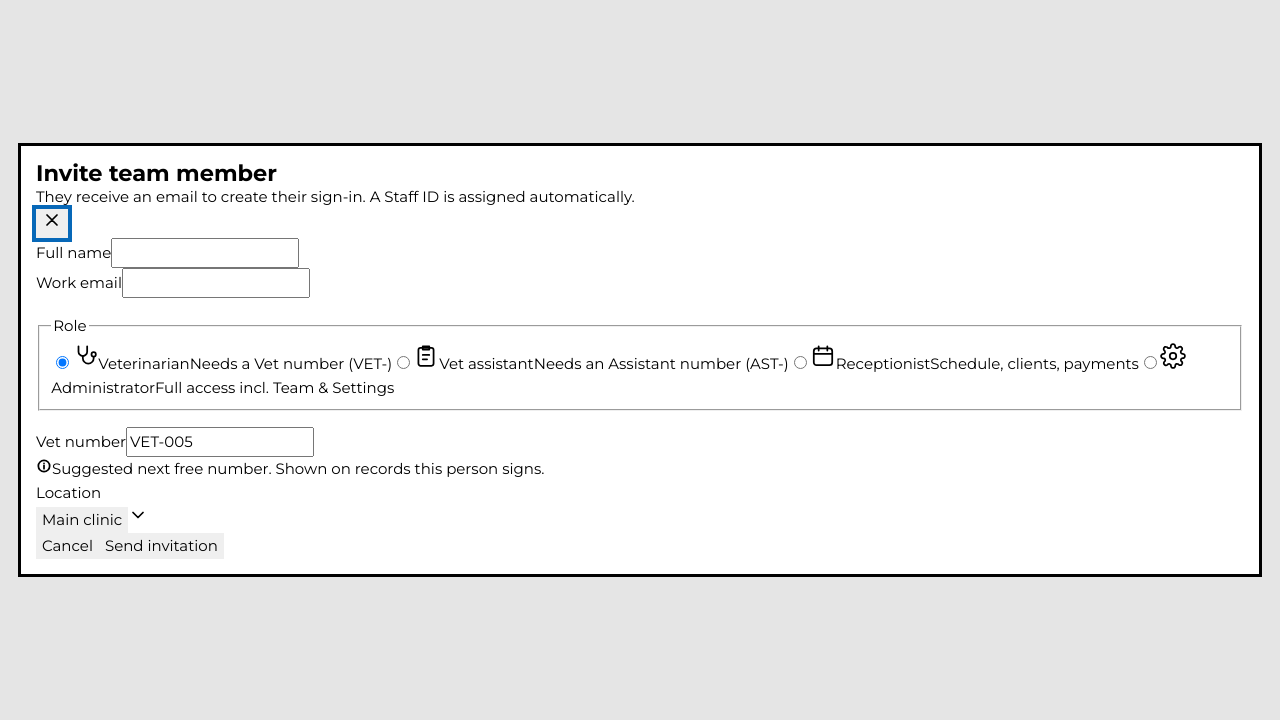
Test case: InviteModal › says when the email already has an account
The width and height of the screenshot is (1280, 720).
Type "José Ruiz" into the field labelled "Full name" at [205, 253], box [111,238,299,268]
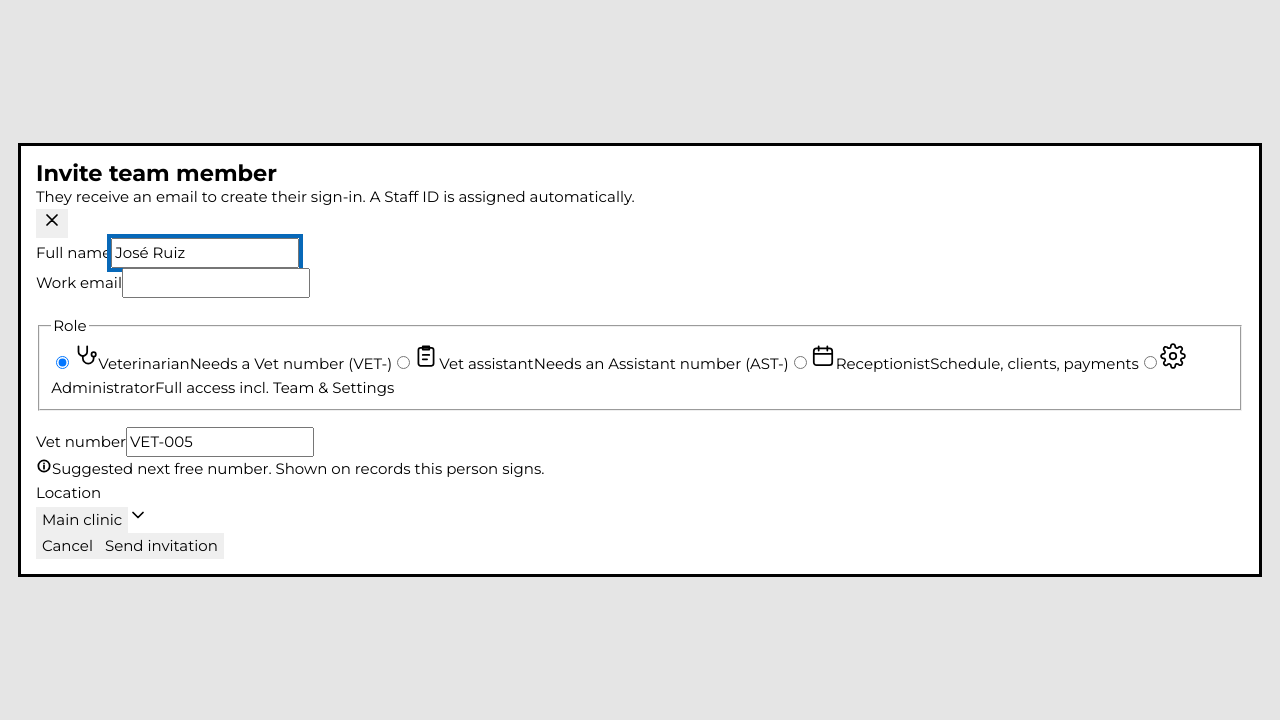
Type "jose.r@convet.aw" into the field labelled "Work email" at [216, 283], box [122,268,310,298]
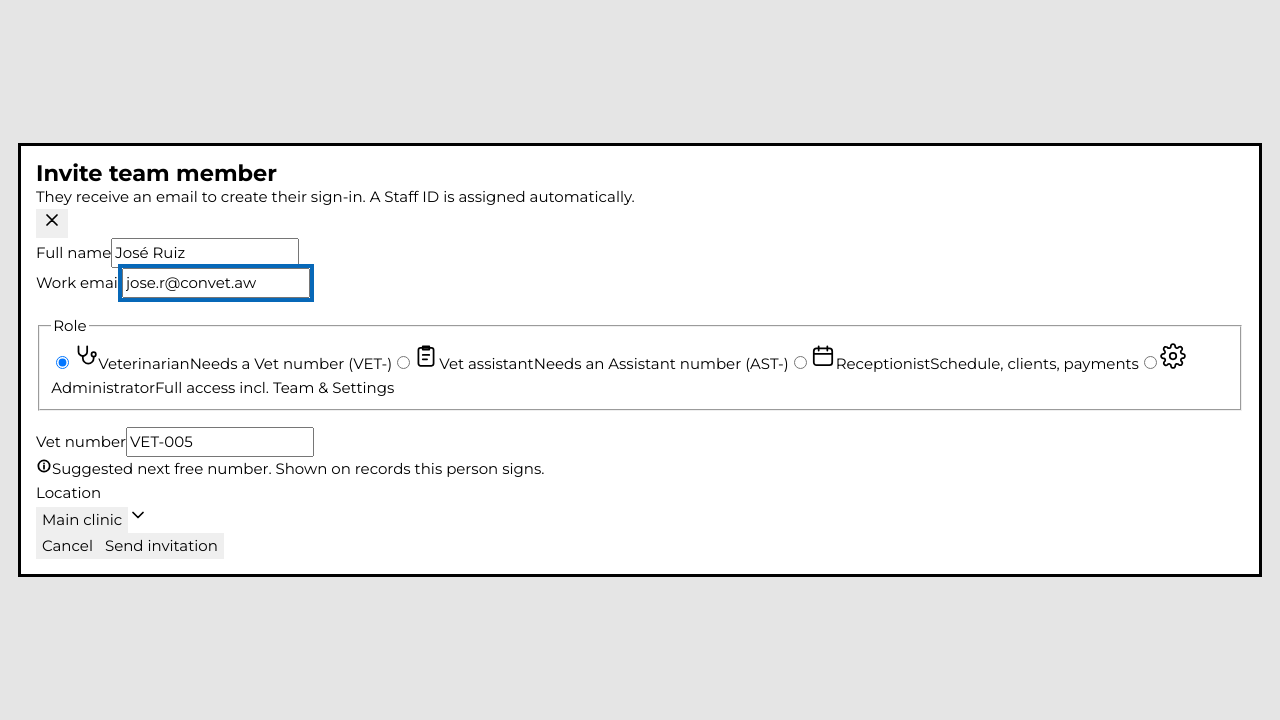
Click the button "Send invitation" at [161, 546], box [99,533,224,559]
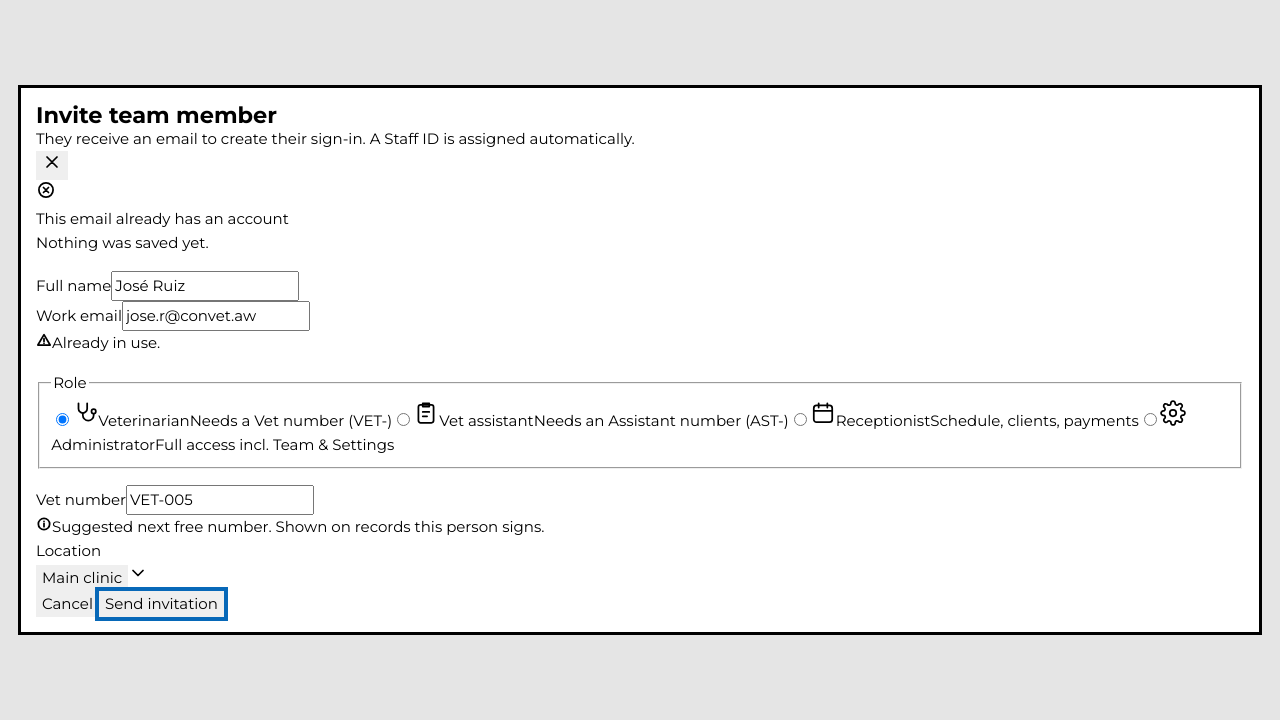
Now the text "This email already has an account" is shown, box [36,209,289,228]
Now the text "Already in use." is shown, box [52,333,160,352]
